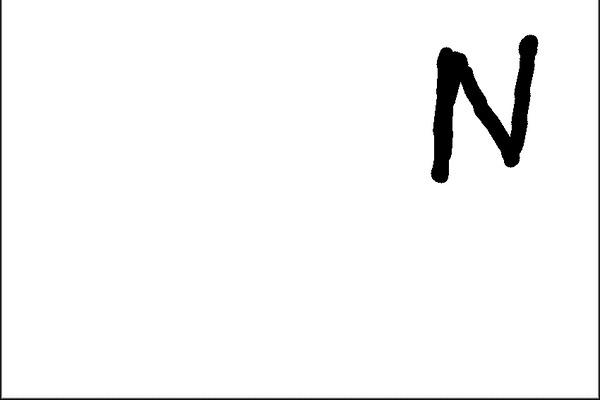N: (424, 25, 542, 186)
